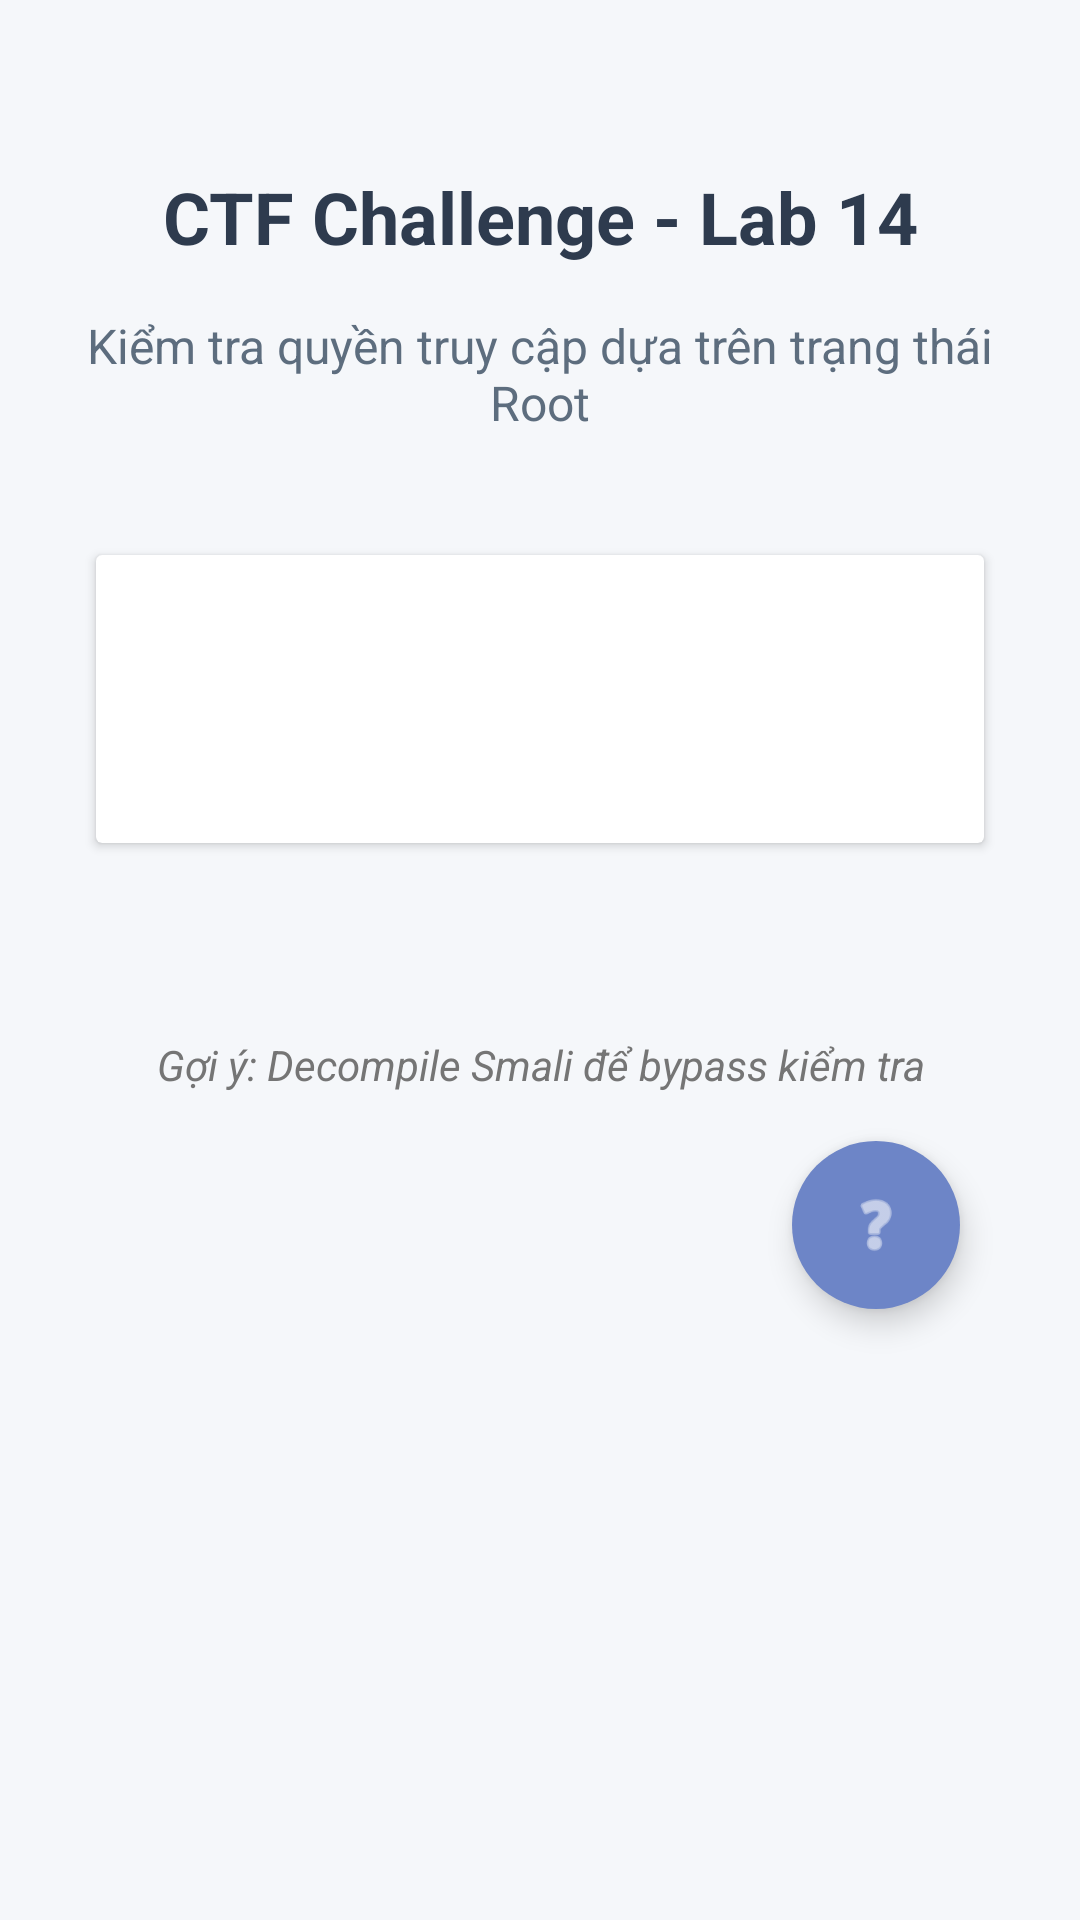

Where icons sit on this 1080x1920 app screen, as region(x1, y1, x2, y2):
Help: region(792, 1141, 960, 1309)
